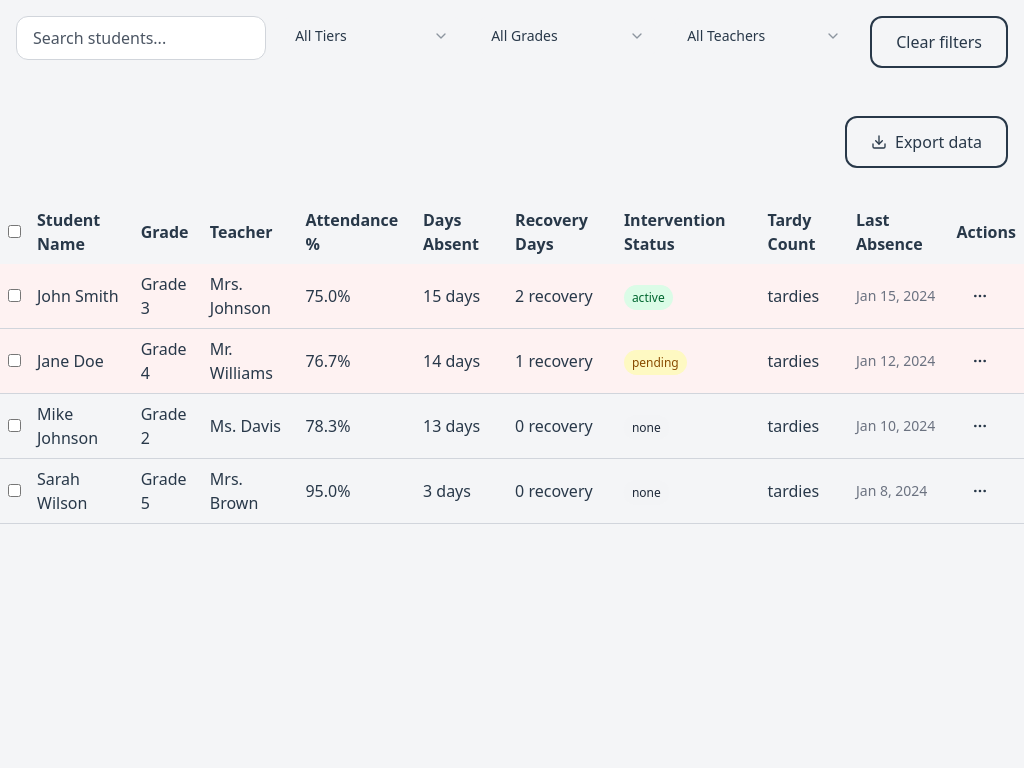
Scenario: StudentList Component › Bulk Selection › should show selected count
Click the checkbox named "select john smith".
click(14, 296)  # box [8, 289, 21, 302]
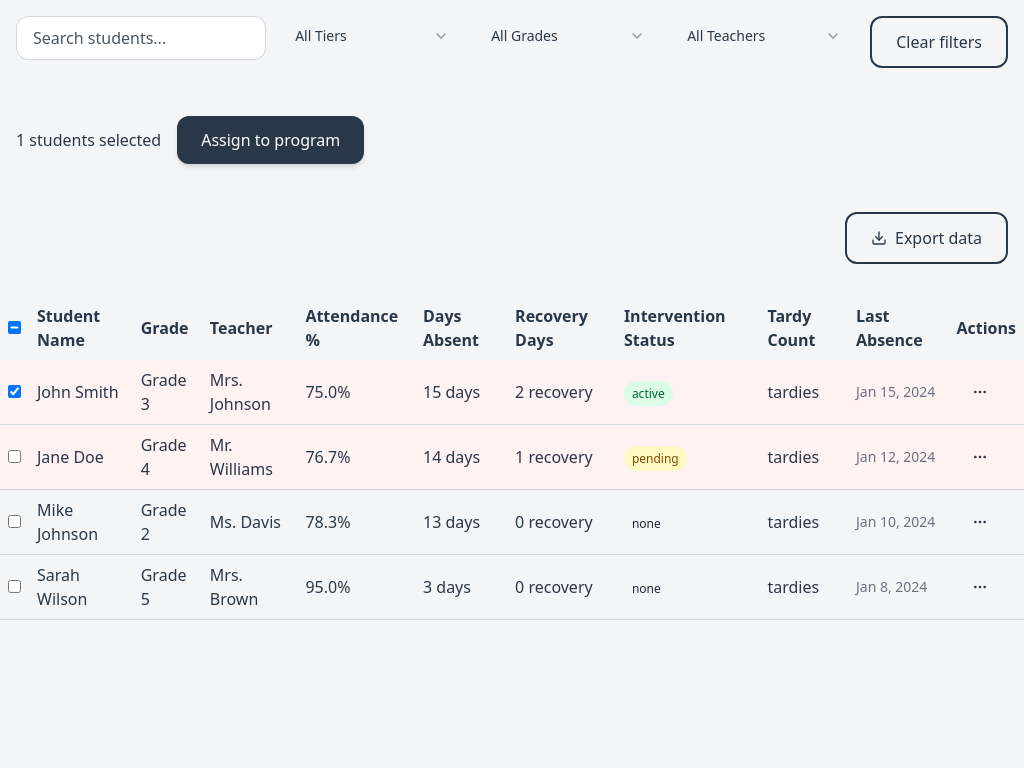
Click the checkbox named "select jane doe".
click(14, 456)  # box [8, 450, 21, 463]
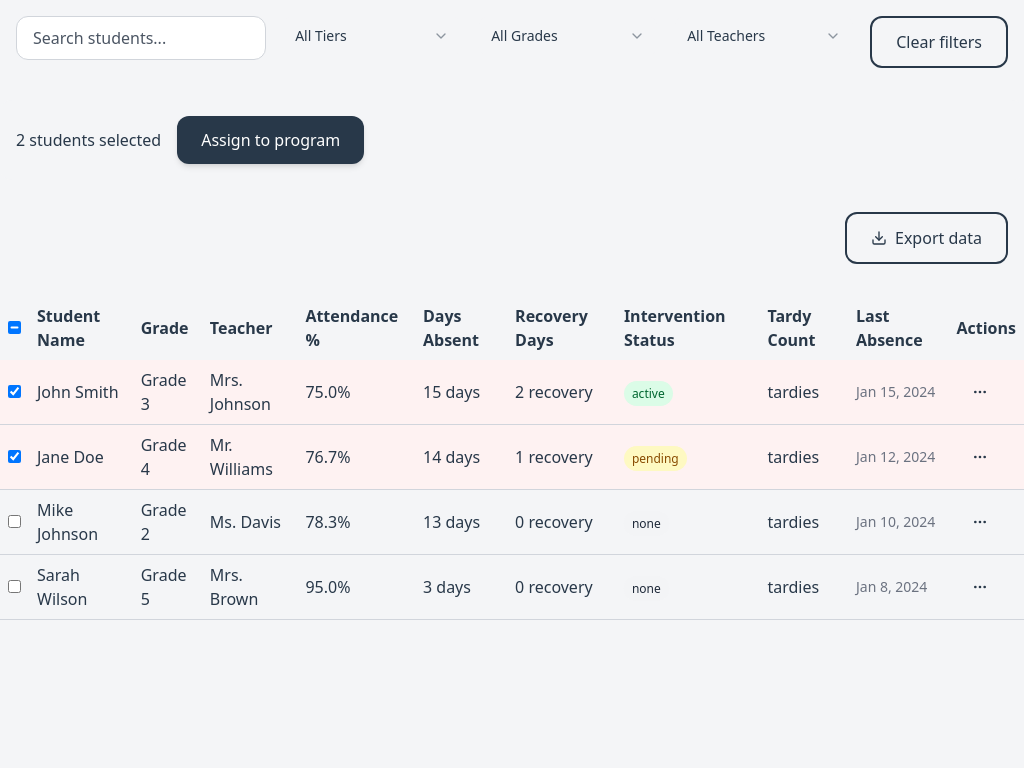
Expected: the text "2 students selected" is shown, [16, 128, 161, 152]
